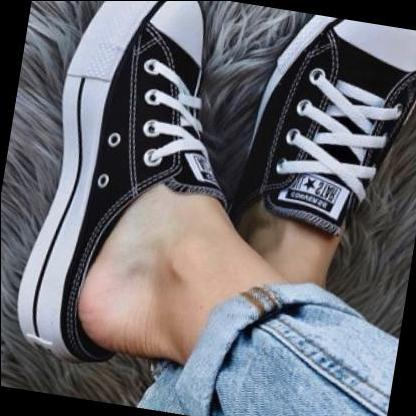no_safety-shoe: (0, 1, 248, 384), (221, 6, 415, 272)
